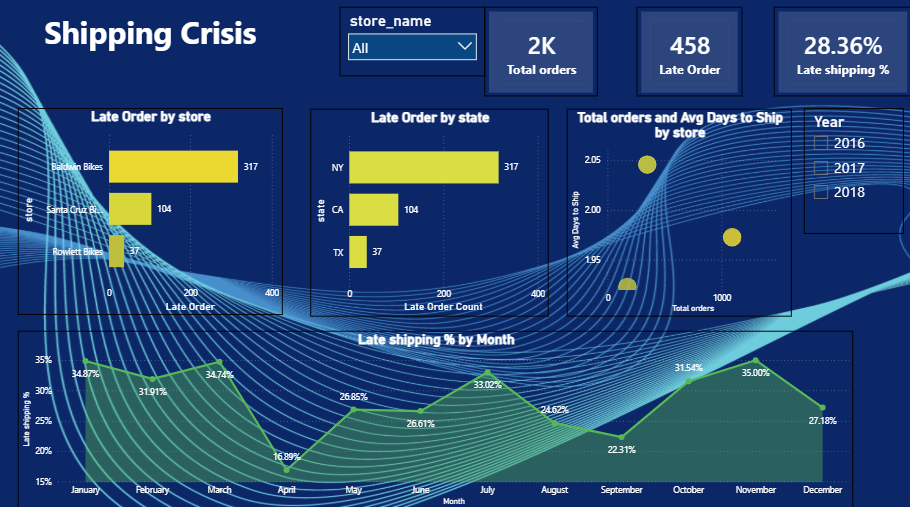

What the dashboard file says about the page in this screenshot:
{"tool":"powerbi","page":{"name":"Shipping Crisis","canvas":[1280,720],"ordinal":1},"visuals":[{"type":"cardVisual","fields":{"Data":["Key Measure.Total orders"]},"box":[666.2,17.9,158.3,125.5],"z":0},{"type":"cardVisual","fields":{"Data":["Key Measure.Late Order Count"]},"box":[878.3,17.9,147.9,125.5],"z":1000},{"type":"cardVisual","fields":{"Data":["Key Measure.Late shipping %"]},"box":[1071,17.9,192.7,125.5],"z":2000},{"type":"clusteredBarChart","title":"Late Order  by store","fields":{"Y":["Key Measure.Late Order Count"],"Category":["stores.store_name"]},"box":[13.4,159.8,370.5,289.8],"z":3000},{"type":"lineChart","fields":{"Category":["calendar.Date.Variation.Date Hierarchy.Month"],"Y":["Key Measure.Late shipping %"]},"box":[13.4,470.5,1168.1,249.5],"z":4000},{"type":"textbox","box":[40.3,17.9,370.5,97.1],"z":5000},{"type":"slicer","fields":{"Values":["calendar.Date.Variation.Date Hierarchy.Year"]},"box":[1112.9,159.8,140.4,176.3],"z":6000},{"type":"barChart","title":"Late Order by state","fields":{"Category":["customers.state"],"Y":["Key Measure.Late Order Count"]},"box":[422.2,160,333.3,290],"z":7000},{"type":"scatterChart","title":"Total orders and Avg Days to Ship by store","fields":{"X":["Key Measure.Total orders"],"Y":["Key Measure.Avg Days to Ship"],"Category":["stores.store_name"]},"box":[781.1,160,314.4,291.1],"z":8000},{"type":"slicer","fields":{"Values":["stores.store_name"]},"box":[463.3,18.3,203.3,96.7],"z":9000}]}

Visuals, with their boxes in screenshot pixels (x1, y1, x2, y2), scaled from the page's 1280x720 canvas onto the 910x507 screenshot:
cardVisual - Key Measure.Total orders: crop(474, 13, 586, 101)
cardVisual - Key Measure.Late Order Count: crop(624, 13, 730, 101)
cardVisual - Key Measure.Late shipping %: crop(761, 13, 898, 101)
"Late Order  by store" clusteredBarChart: crop(10, 113, 273, 317)
lineChart - calendar.Date.Variation.Date Hierarchy.Month x Key Measure.Late shipping %: crop(10, 331, 840, 506)
textbox: crop(29, 13, 292, 81)
slicer - calendar.Date.Variation.Date Hierarchy.Year: crop(791, 113, 891, 237)
"Late Order by state" barChart: crop(300, 113, 537, 317)
"Total orders and Avg Days to Ship by store" scatterChart: crop(555, 113, 779, 318)
slicer - stores.store_name: crop(329, 13, 474, 81)
